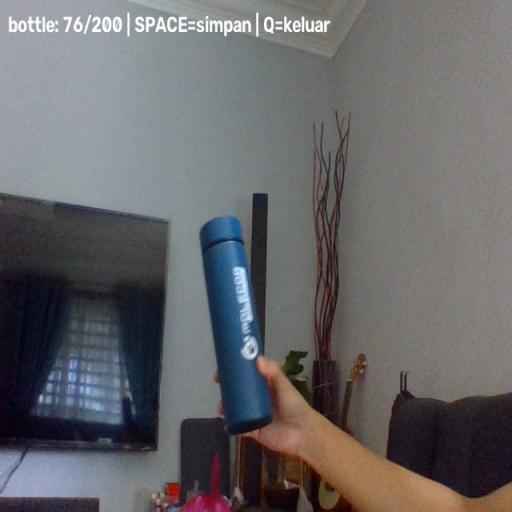Bottle: (198, 217, 274, 435)
